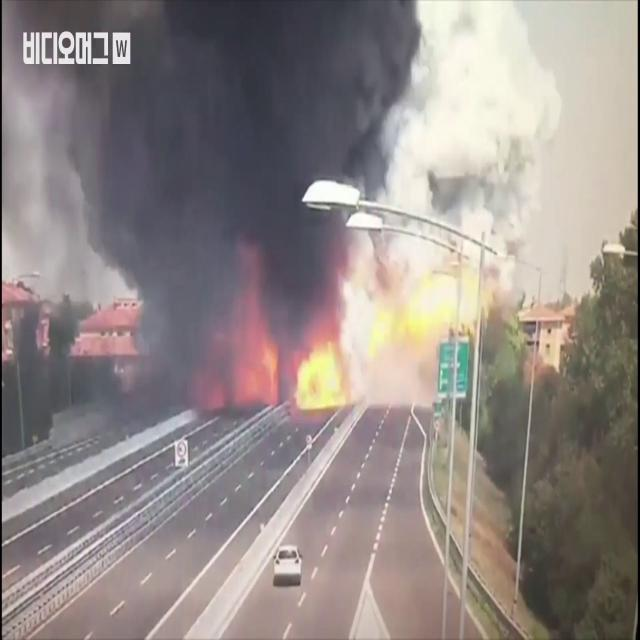explosion: (4, 0, 640, 510)
